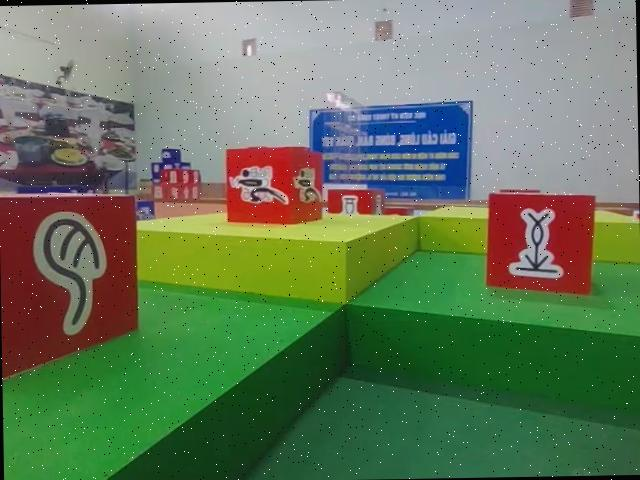R1: (222, 142, 328, 229)
R2 Fake: (0, 191, 143, 379)
R2 Real: (481, 187, 601, 298)
